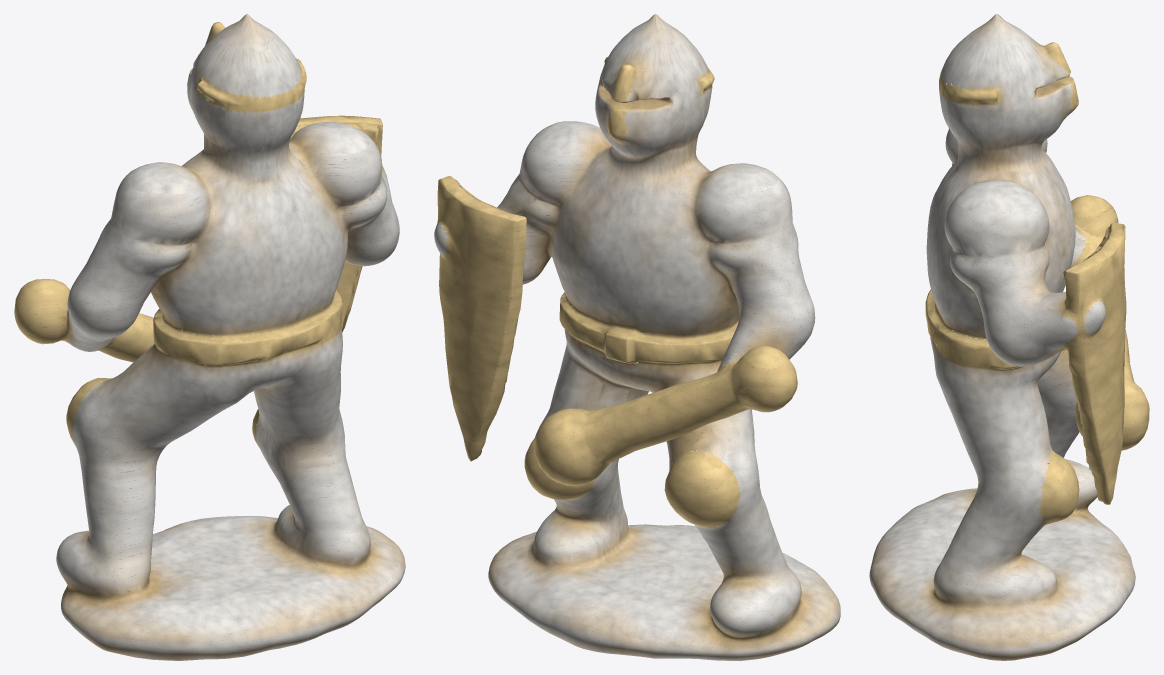
Rendered from pawn-white-hd.glb.
The picture shows the model from 3 angles, left to right: view 1: azimuth 30°, elevation 25°; view 2: azimuth 150°, elevation 25°; view 3: azimuth 270°, elevation 25°; orthographic projection.
Visible parts, largest first — view 1: Argent Reliquary – White Pawn; view 2: Argent Reliquary – White Pawn; view 3: Argent Reliquary – White Pawn.
Boxes of the visible parts, x1,y1,x2,y2 form: Argent Reliquary – White Pawn: [14, 14, 405, 660]; Argent Reliquary – White Pawn: [434, 14, 840, 660]; Argent Reliquary – White Pawn: [869, 14, 1149, 660].
Size of the model in its own units: 0.6082 by 0.96 by 0.4165.
2 materials, 2 textured.
